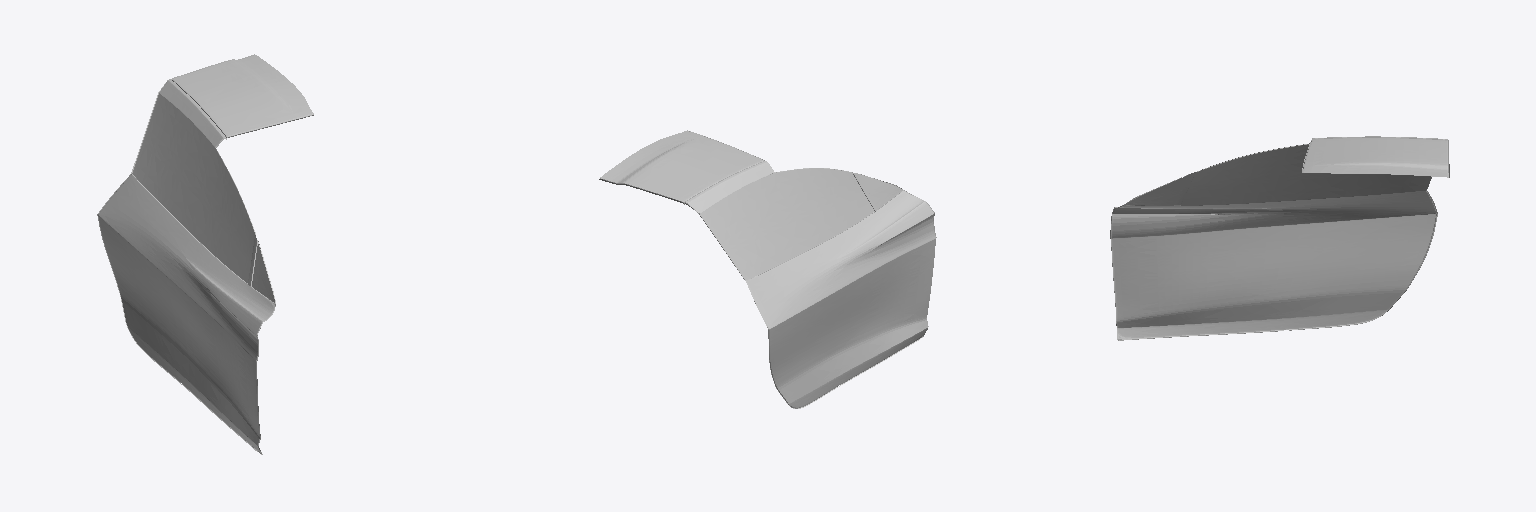
File: car_door_l.obj
3 views of the same model, side by side, from view 1: azimuth 30°, elevation 25°; view 2: azimuth 150°, elevation 25°; view 3: azimuth 270°, elevation 25° (orthographic).
Size of the model in its own units: 46.33 by 64.05 by 81.05.